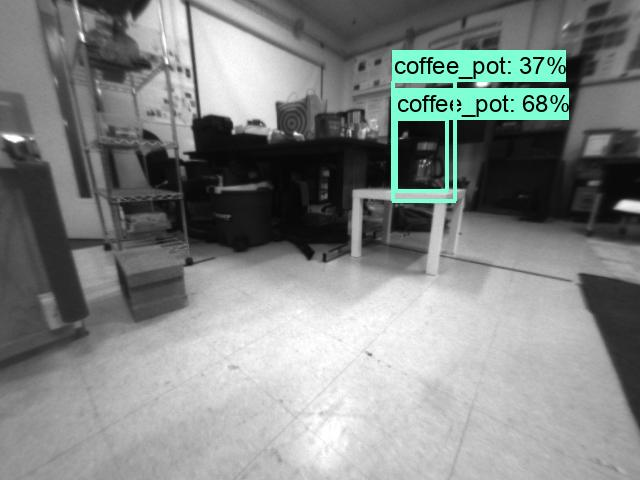coffee_pot: (395, 136, 449, 193)
